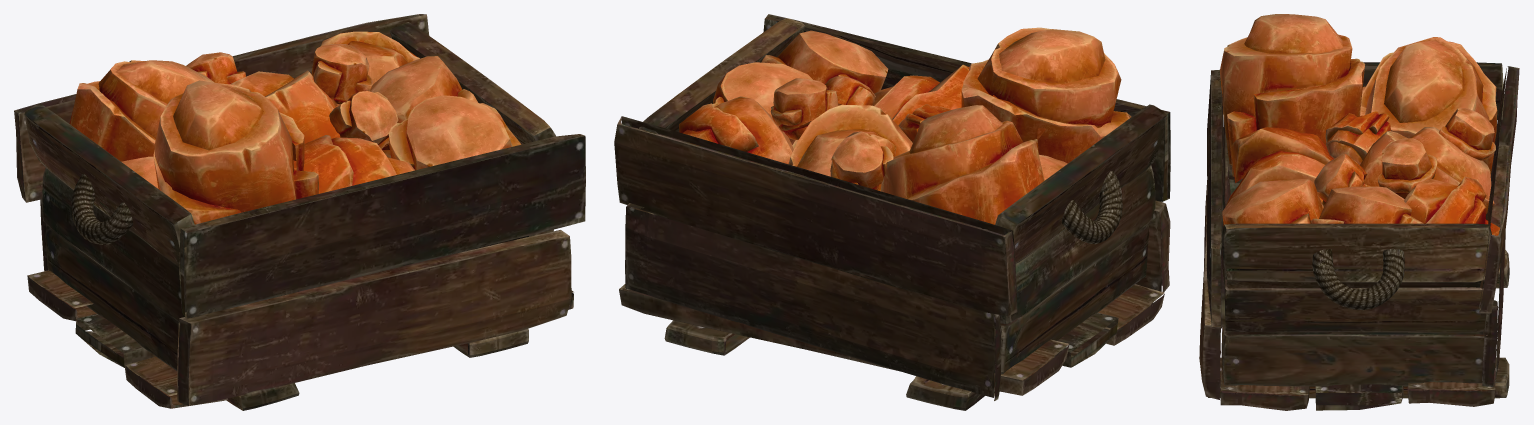
The picture shows the model from 3 angles, left to right: view 1: azimuth 30°, elevation 25°; view 2: azimuth 150°, elevation 25°; view 3: azimuth 270°, elevation 25°; orthographic projection. The views are drawn at different scales.
Parts seen in each view (by area): view 1: SM_Dec_Garou_Chest_Copper_Small_LOD0; view 2: SM_Dec_Garou_Chest_Copper_Small_LOD0; view 3: SM_Dec_Garou_Chest_Copper_Small_LOD0.
Part boxes in pixels (x1,y1,x2,y2): SM_Dec_Garou_Chest_Copper_Small_LOD0: (14, 14, 585, 410); SM_Dec_Garou_Chest_Copper_Small_LOD0: (614, 14, 1170, 410); SM_Dec_Garou_Chest_Copper_Small_LOD0: (1199, 14, 1519, 410).
Bounding box in the file's own units: 0.9929 × 0.6132 × 0.6922.
3 materials, 3 textured.
